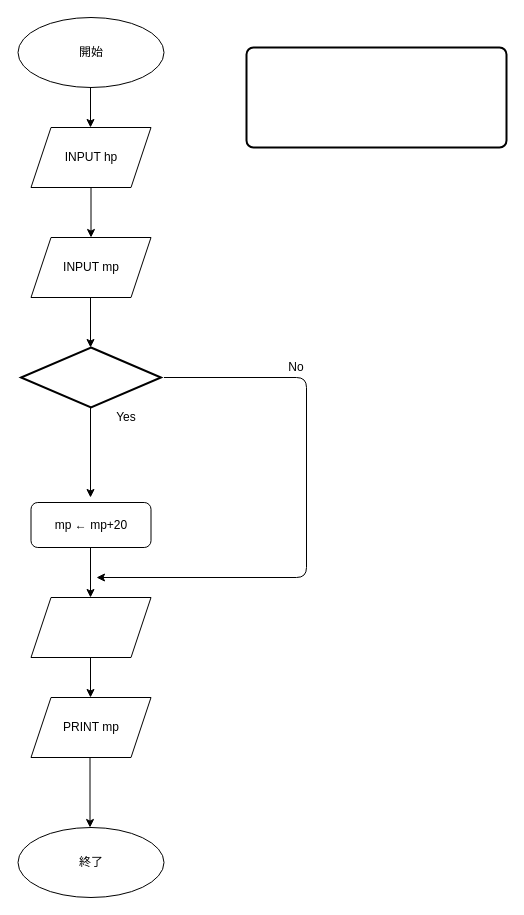
The diagram is 524 pixels wide and 915 high, and some of its shapes have lost their labels. The shapes that lost their labels are listed below. From the top down, each one's centre as x and y in pixels, then its label:
the point at 376,97: 変数定義 hp: ヒットポイント mp: マジックポイント
the point at 91,377: hp <30
the point at 90,627: PRINT hp
